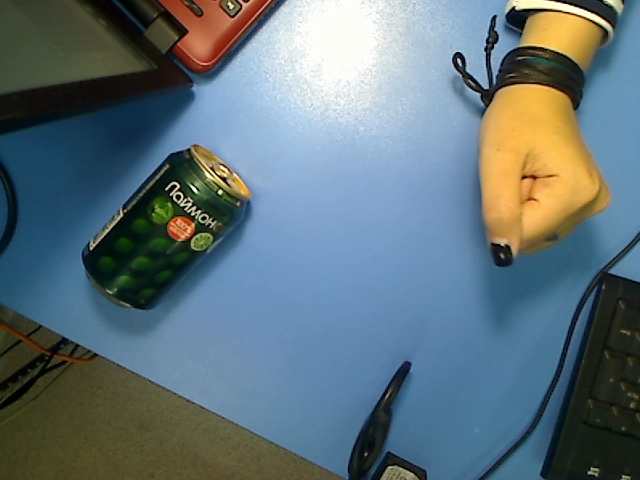can: (81, 143, 251, 313)
